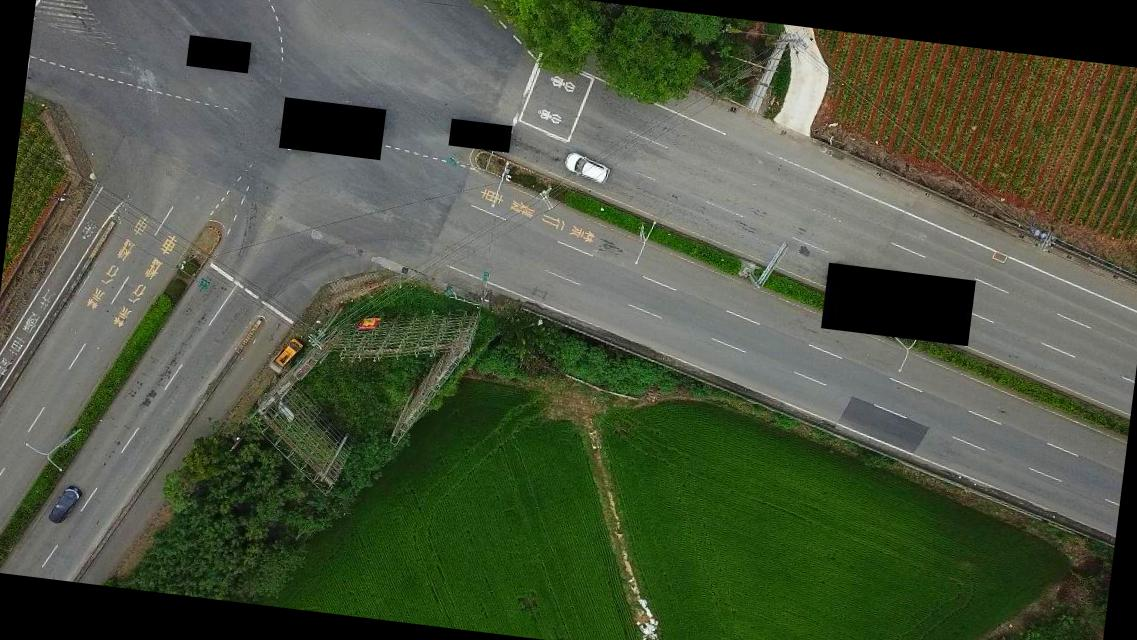vehicle: (561, 150, 614, 185), (48, 484, 81, 528), (272, 336, 303, 368)
